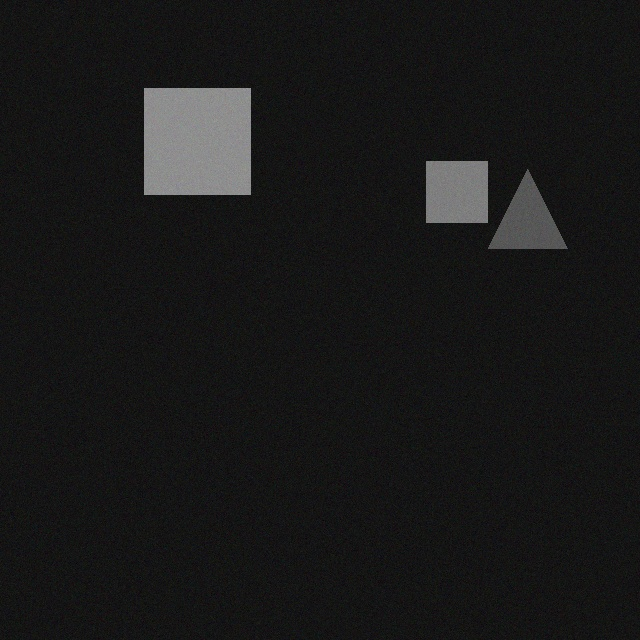square: (144, 80, 250, 186), (426, 153, 487, 214)
triangle: (488, 161, 567, 240)
